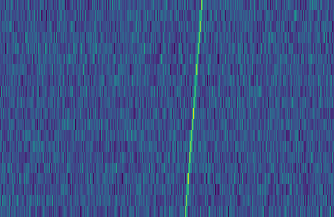signal: (181, 0, 207, 217)
